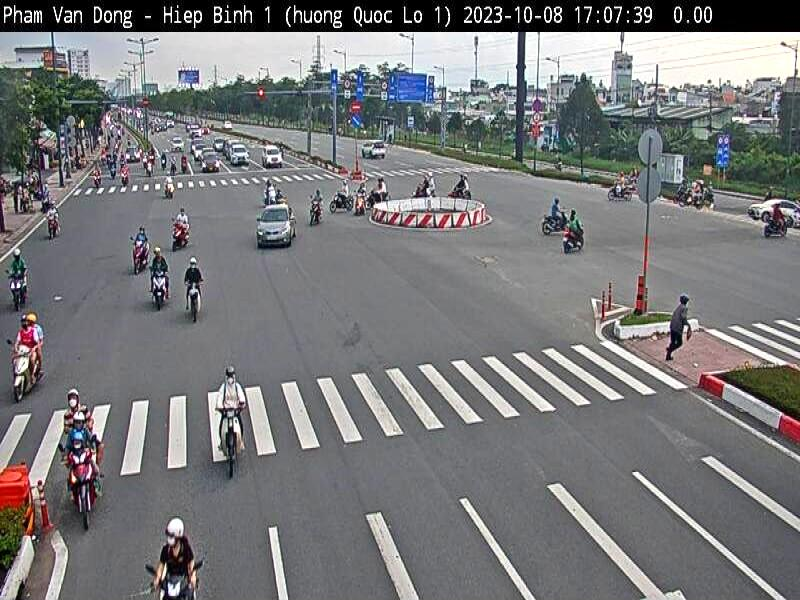car: (256, 195, 292, 252), (190, 136, 223, 178), (262, 145, 294, 179), (226, 140, 254, 168)
motorcycle: (51, 438, 102, 529), (194, 401, 258, 469), (136, 265, 174, 312), (5, 338, 39, 390), (181, 278, 212, 328), (118, 234, 150, 278)
